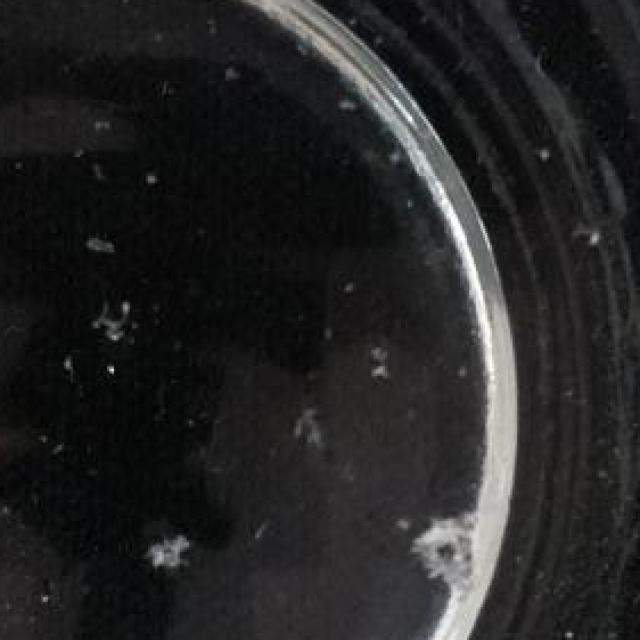Microplastic: (412, 507, 490, 614), (282, 395, 346, 471), (348, 324, 408, 395), (86, 293, 144, 362), (144, 523, 194, 571), (374, 614, 446, 640)
